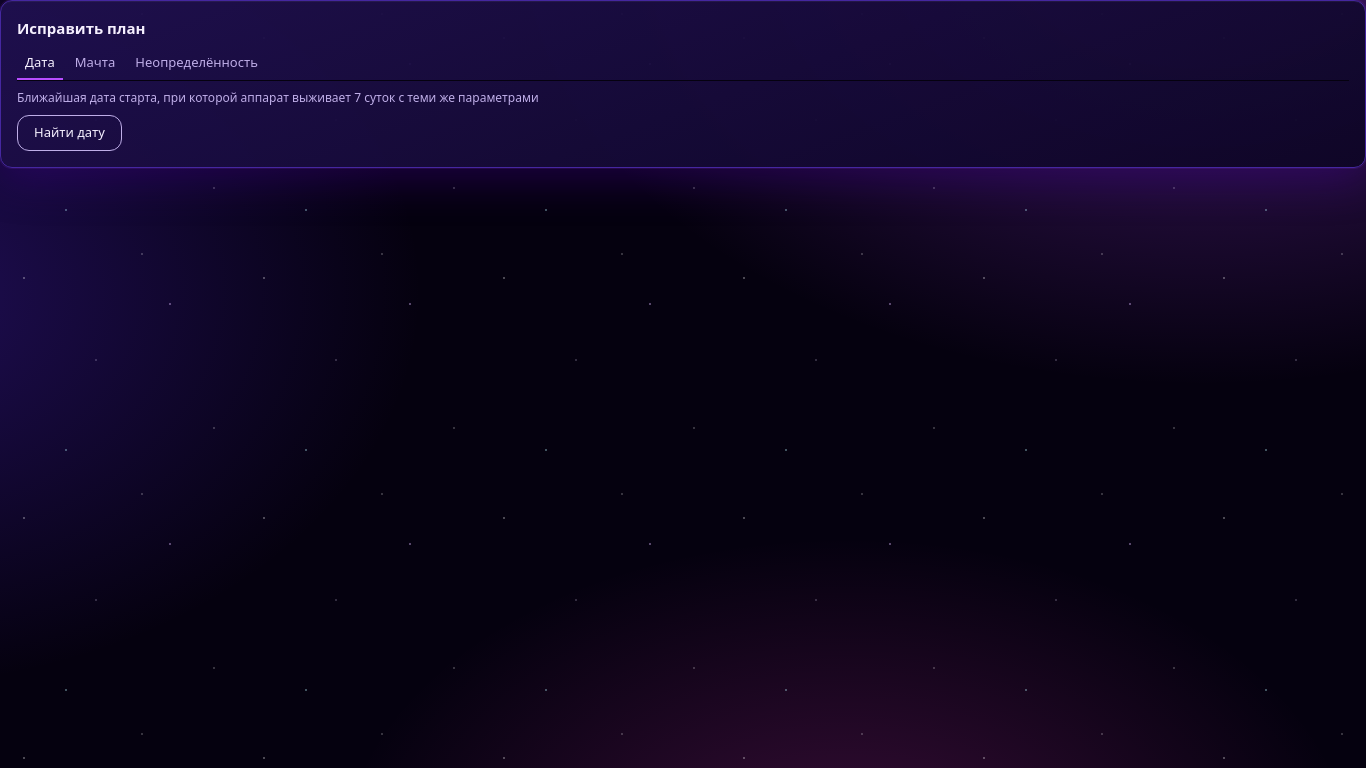
Test: uncertainty tab › explains that clones exist only for the 2 m mast
Click the tab "Неопределённость". click: (197,64)
box: x1=127 y1=48 x2=266 y2=80
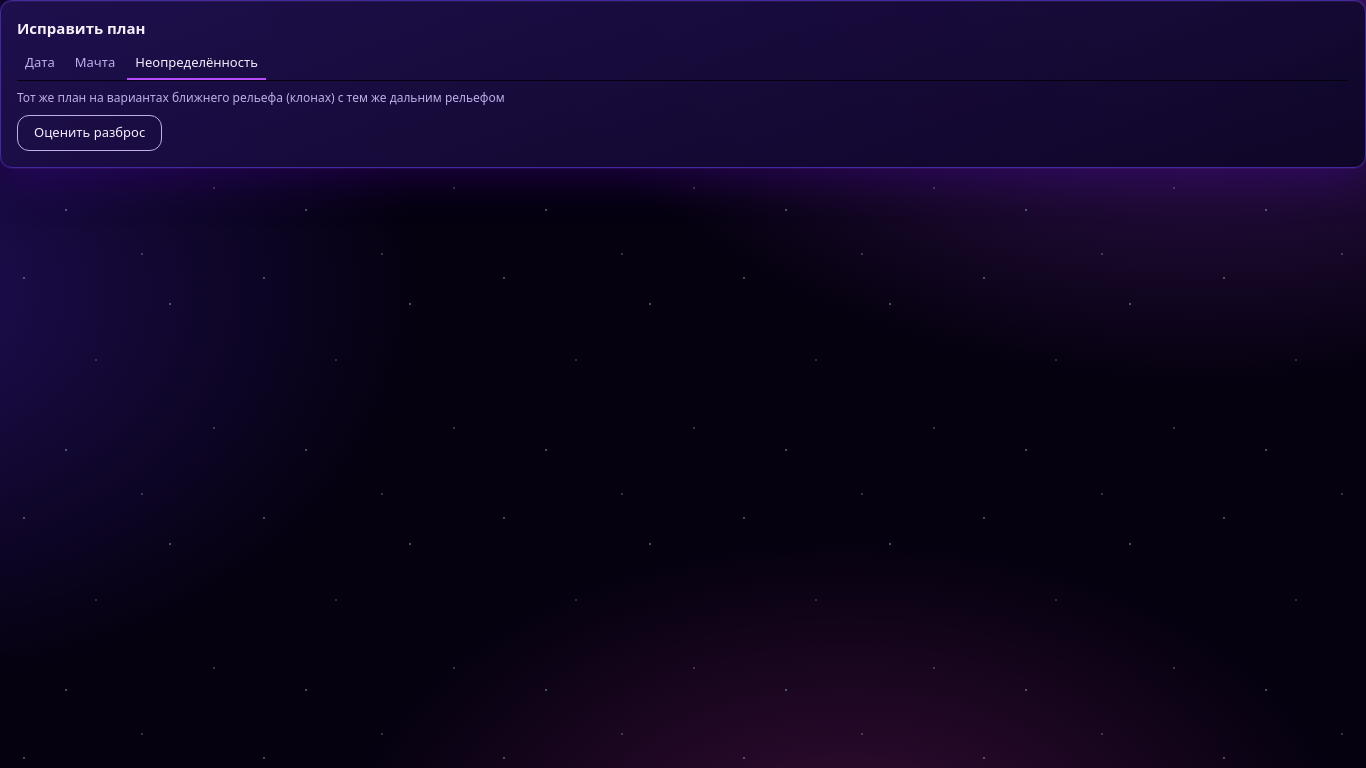
Click the button "Оценить разброс". click: (90,132)
box: x1=17 y1=114 x2=162 y2=150
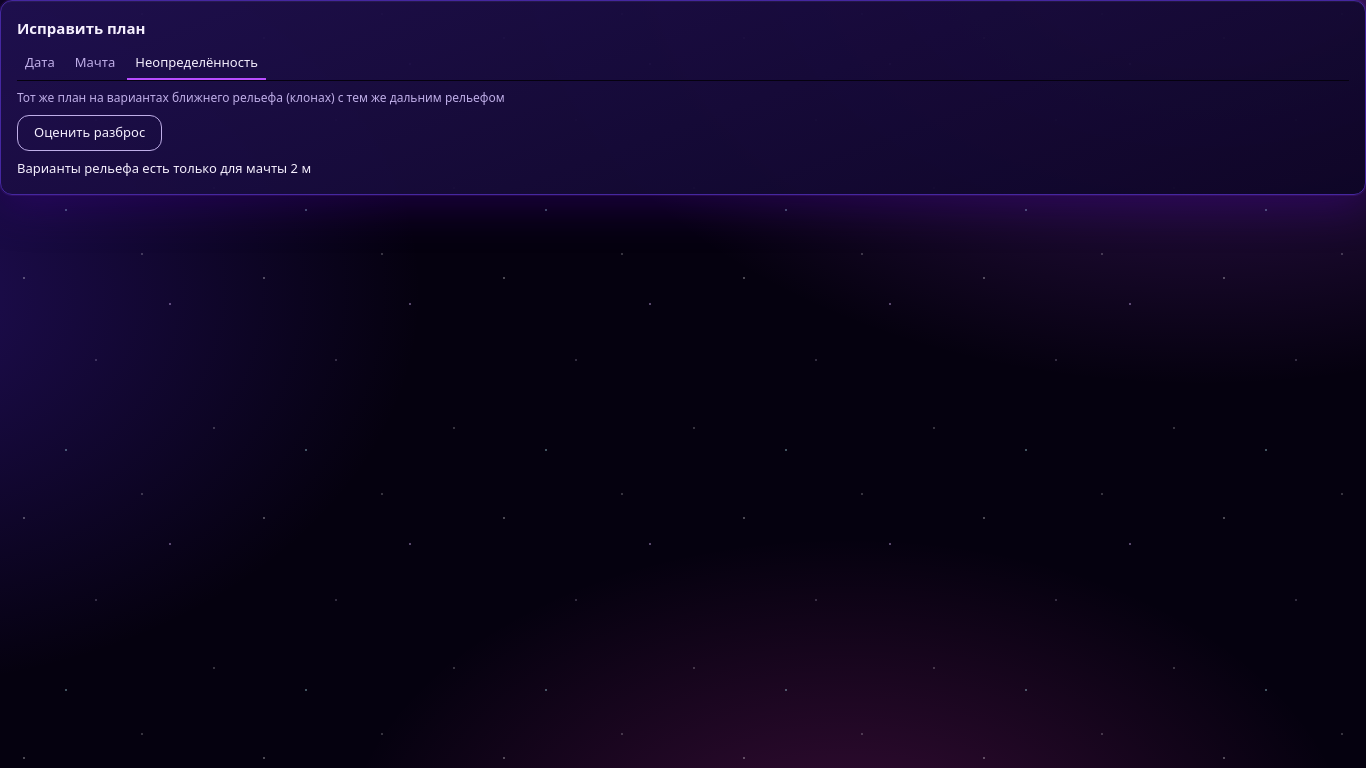
Check: the message reads "Варианты рельефа есть только для мачты 2 м", box x1=17 y1=158 x2=311 y2=176
